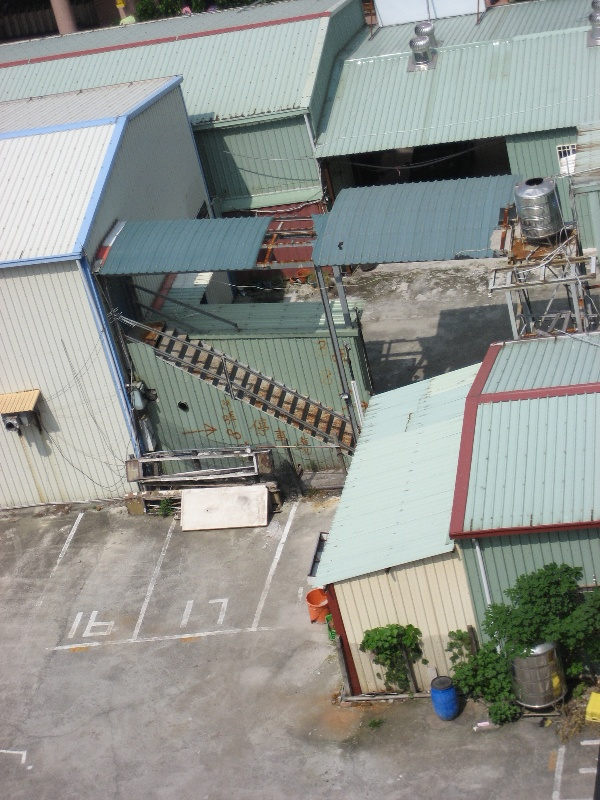bucket: (428, 672, 465, 723), (303, 587, 335, 625)
water_tower: (508, 632, 570, 715), (511, 174, 566, 249)
